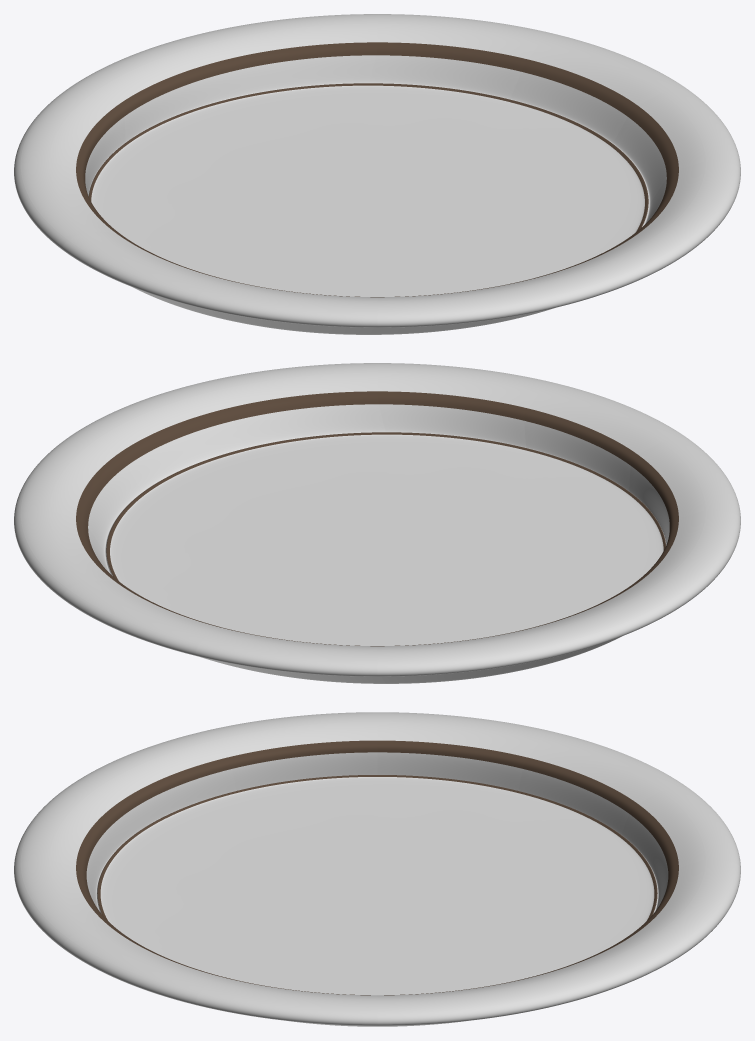
Rendered from plates_1.fbx.
The picture shows the model from 3 angles, top to bottom: view 1: azimuth 30°, elevation 25°; view 2: azimuth 150°, elevation 25°; view 3: azimuth 270°, elevation 25°; orthographic projection.
Parts seen in each view (by area): view 1: SM_Prop_Food_Plate_01; view 2: SM_Prop_Food_Plate_01; view 3: SM_Prop_Food_Plate_01.
Part boxes in pixels (box(x1,y1,x2,y2)): SM_Prop_Food_Plate_01: box(14, 14, 740, 334); SM_Prop_Food_Plate_01: box(14, 363, 740, 683); SM_Prop_Food_Plate_01: box(14, 712, 740, 1026).
Bounding box in the file's own units: 41.45 × 2.9 × 41.45.
